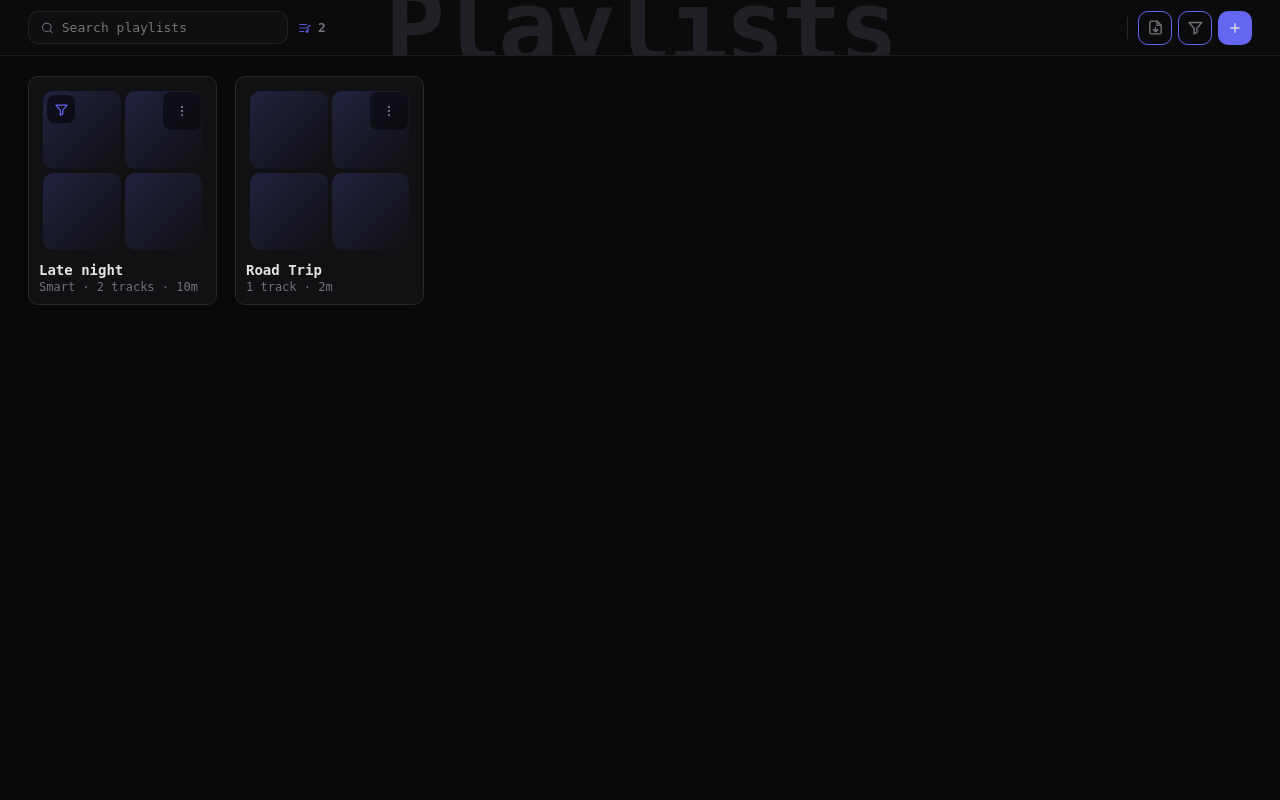
Scenario: PlaylistsView smart playlists › marks smart cards and opens the editor from the header
Check: the button with aria-label "Late night — Smart playlist · 2 tracks · 10m" shows "Smart · 2 tracks · 10m", box [28,76,217,305]
Check: the element with test id "smart-badge" is shown, box [47,95,75,123]
What coordinates should you click on to do the following:
click the button named "New smart playlist"
I would click on:
 (1195, 28)
Its box is [1178,10,1212,44].
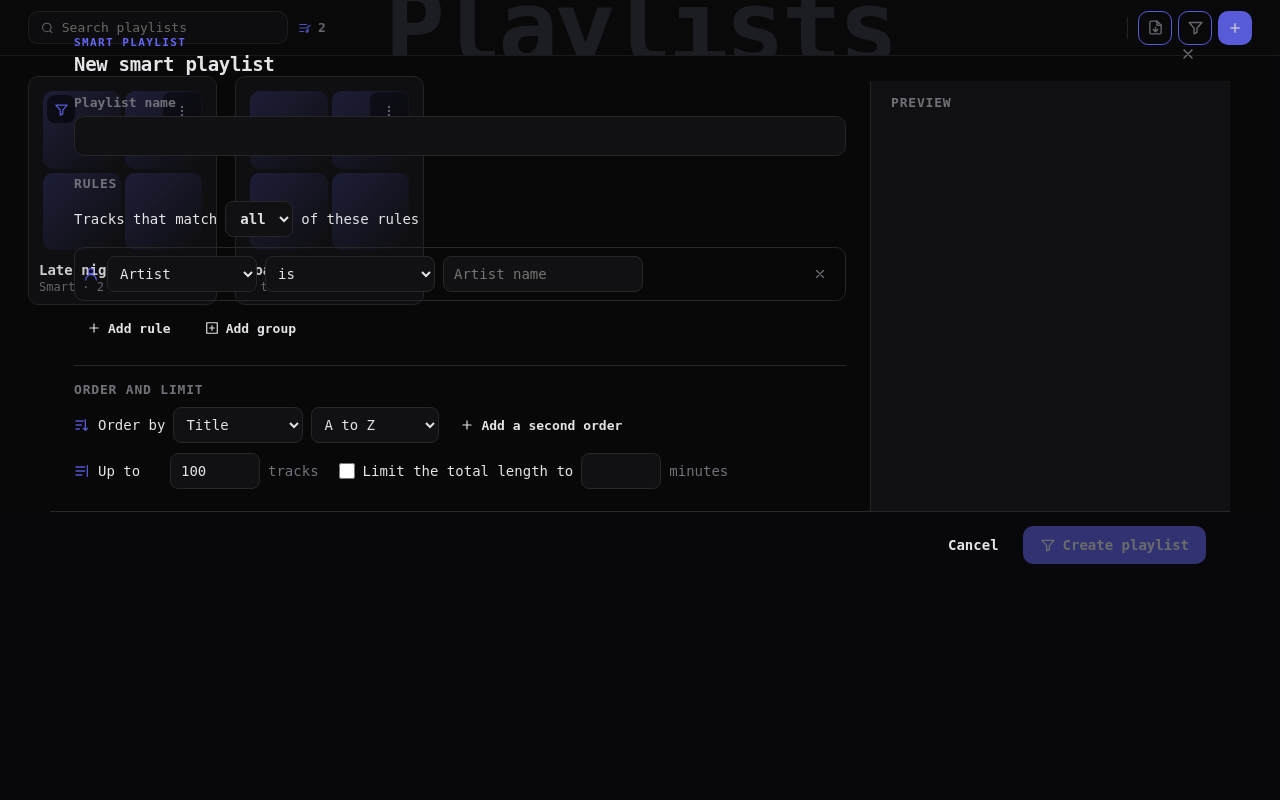
Check: the dialog "New smart playlist" is shown
